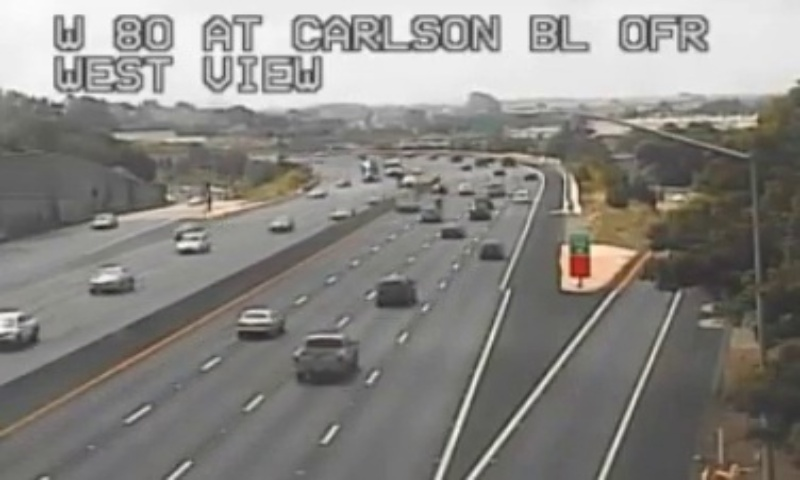car: (293, 333, 357, 377), (236, 308, 285, 335), (376, 276, 412, 304)
